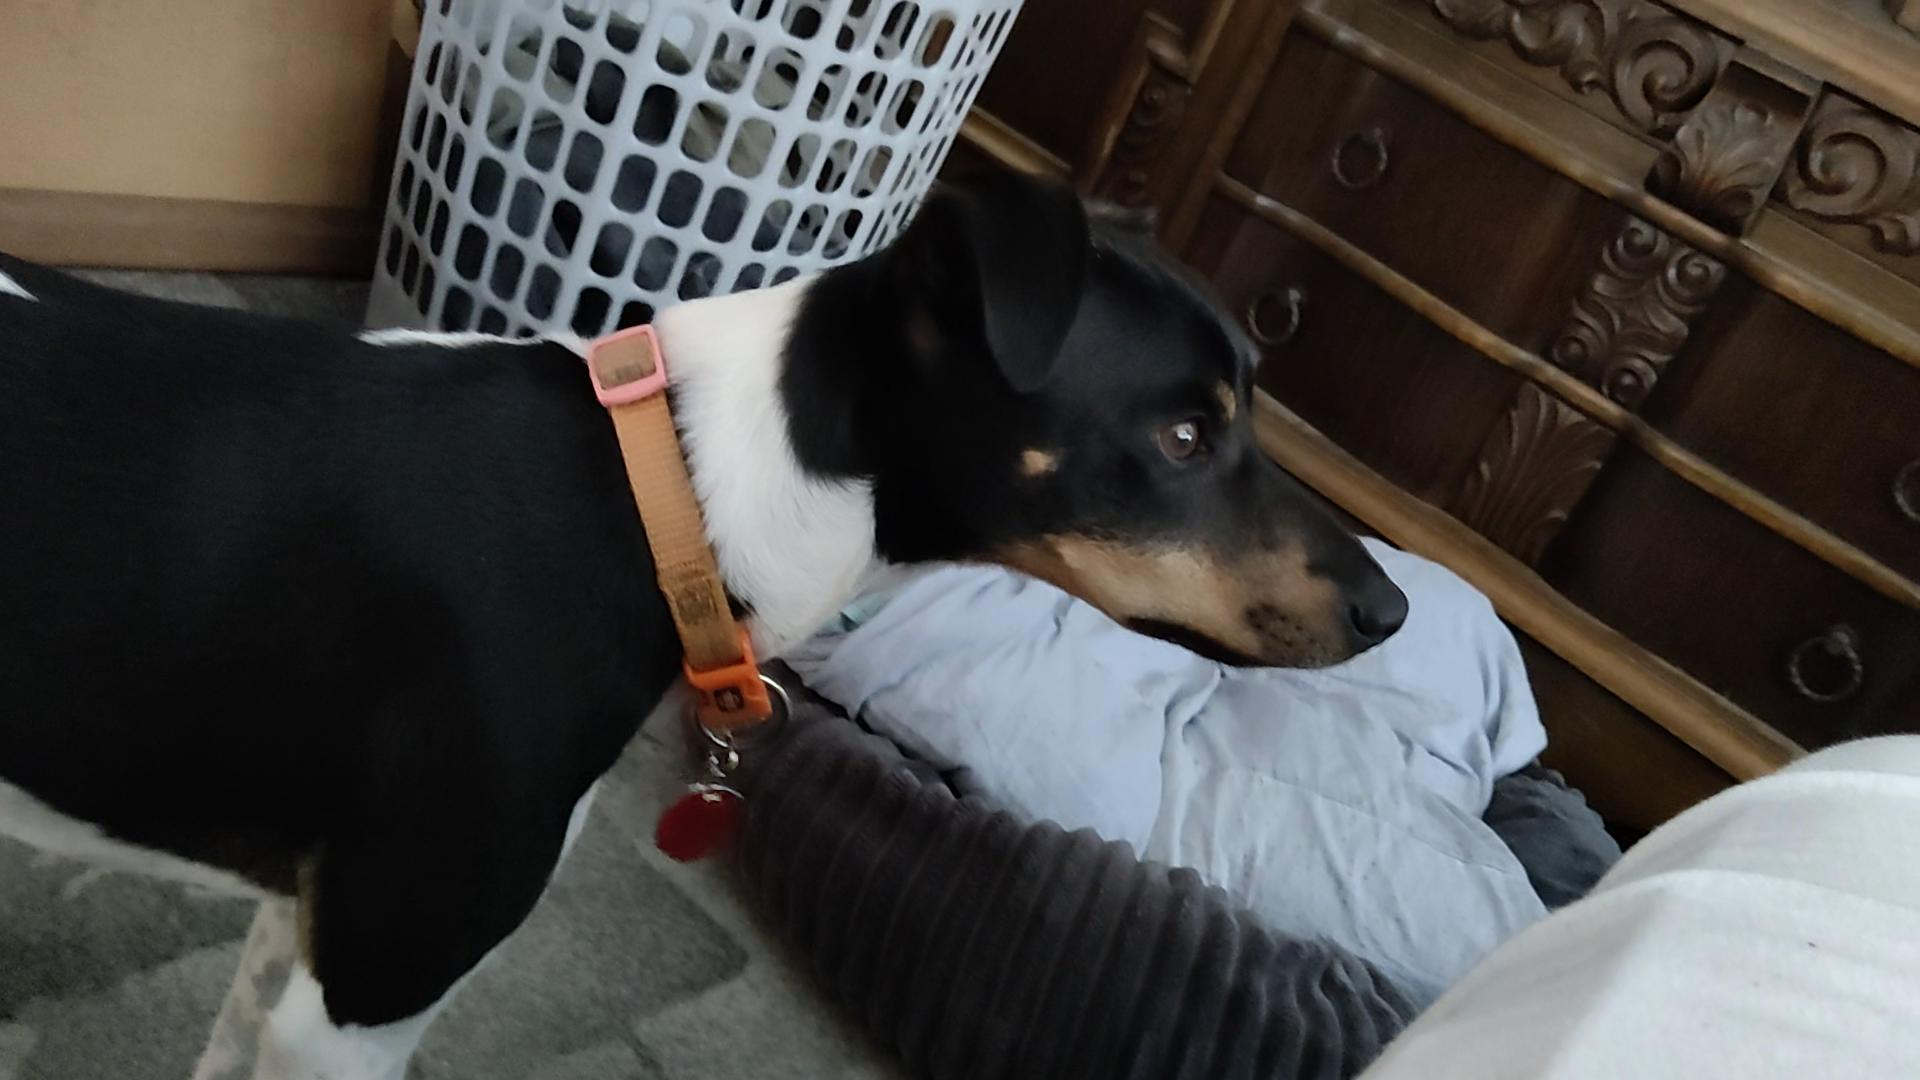Dog: (0, 156, 1424, 1079)
